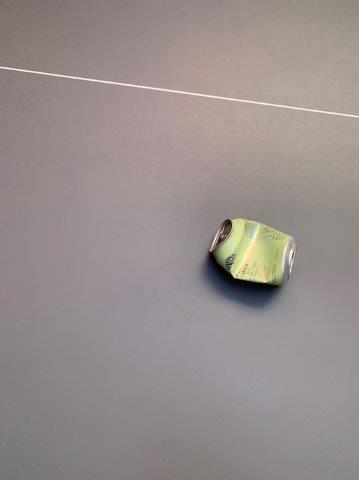kaleng: (210, 218, 296, 286)
